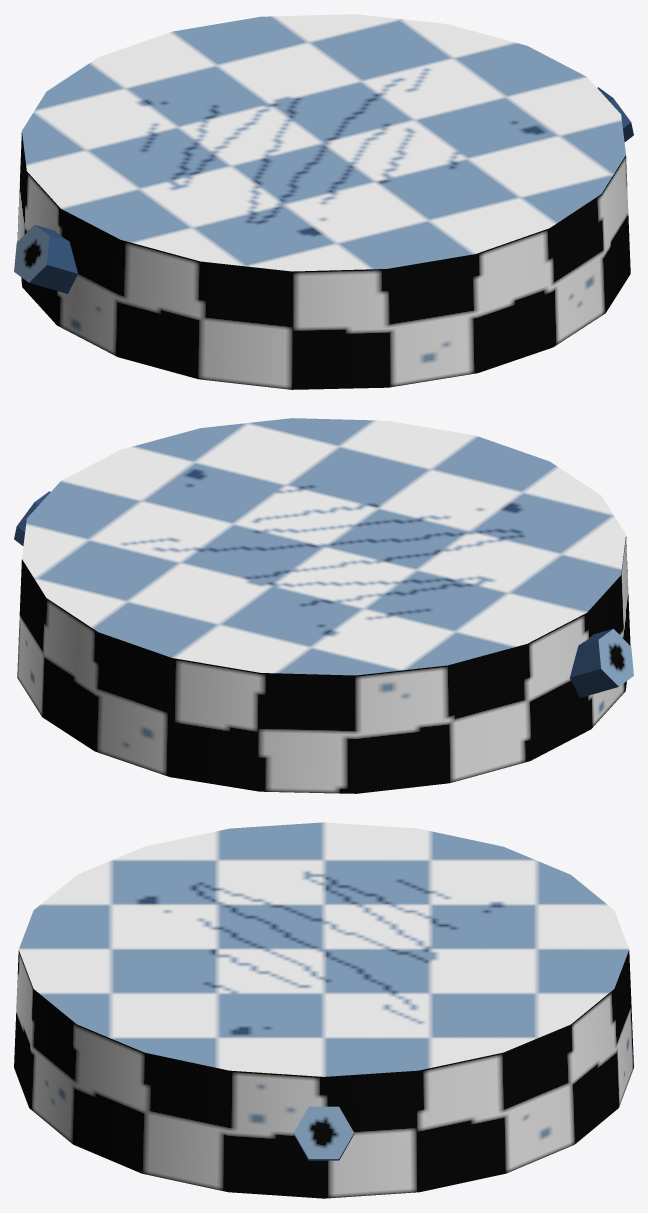
File: EndPlatform.obj
The picture shows the model from 3 angles, top to bottom: view 1: azimuth 30°, elevation 25°; view 2: azimuth 150°, elevation 25°; view 3: azimuth 270°, elevation 25°; orthographic projection.
Parts seen in each view (by area): view 1: Cylinder; view 2: Cylinder; view 3: Cylinder.
Part boxes in pixels (left/top/right/bottom): Cylinder: left=14, top=14, right=633, bottom=389; Cylinder: left=14, top=418, right=633, bottom=793; Cylinder: left=14, top=822, right=633, bottom=1198.
Bounding box in the file's own units: 2.26 × 0.4262 × 2.
Materials: 1 (1 with a texture image).
